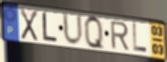L: (41, 11, 58, 44), (131, 22, 148, 54)
Q: (83, 14, 106, 52)
R: (109, 20, 130, 51)
U: (61, 11, 85, 48)
X: (19, 7, 39, 43)
